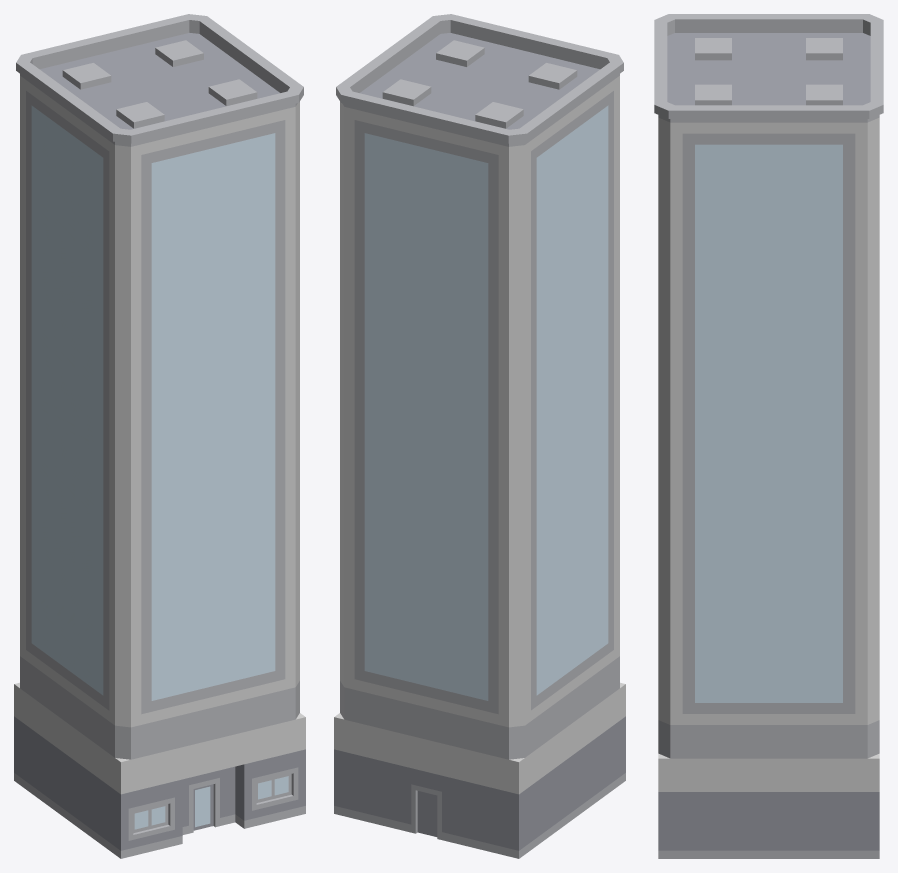
Rendered from SkyscraperB-transformed.glb.
3 views of the same model, side by side, from view 1: azimuth 30°, elevation 25°; view 2: azimuth 150°, elevation 25°; view 3: azimuth 270°, elevation 25° (orthographic). The views are drawn at different scales.
Parts seen in each view (by area): view 1: skyscraperB; view 2: skyscraperB; view 3: skyscraperB.
Part boxes in pixels (x1,y1,x2,y2): skyscraperB: (14, 14, 305, 858); skyscraperB: (334, 14, 625, 858); skyscraperB: (654, 14, 883, 858).
Size of the model in its own units: 1.24 by 4.48 by 1.24.
